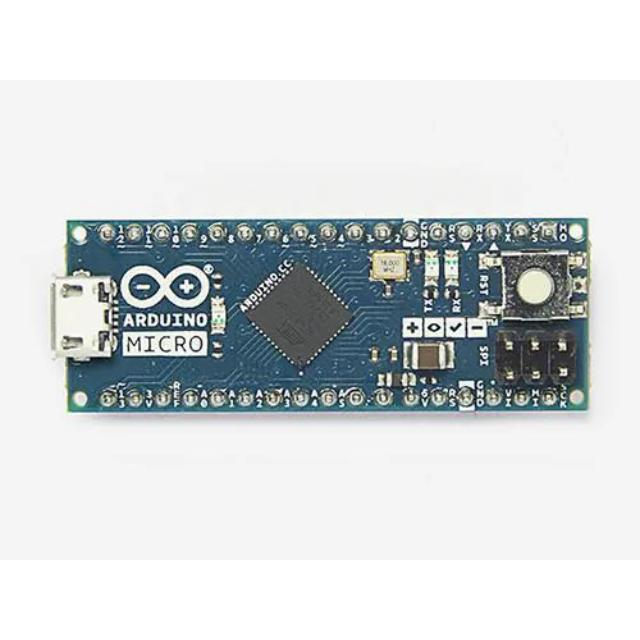Arduino-Micro: (52, 218, 590, 414)
